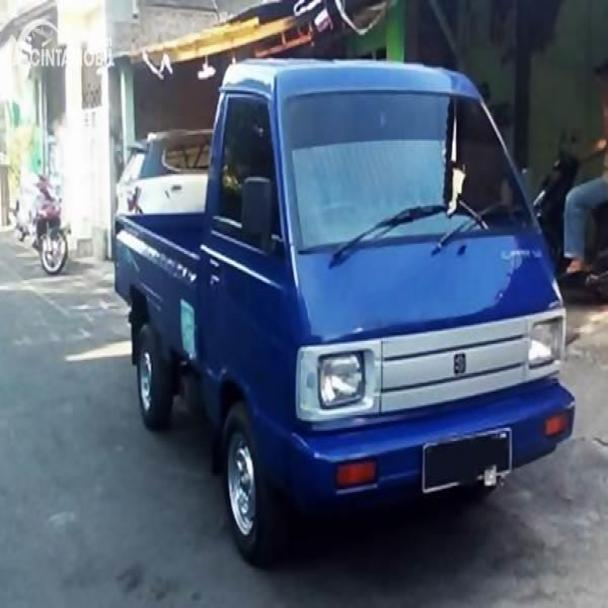Mobil: (110, 60, 576, 557)
